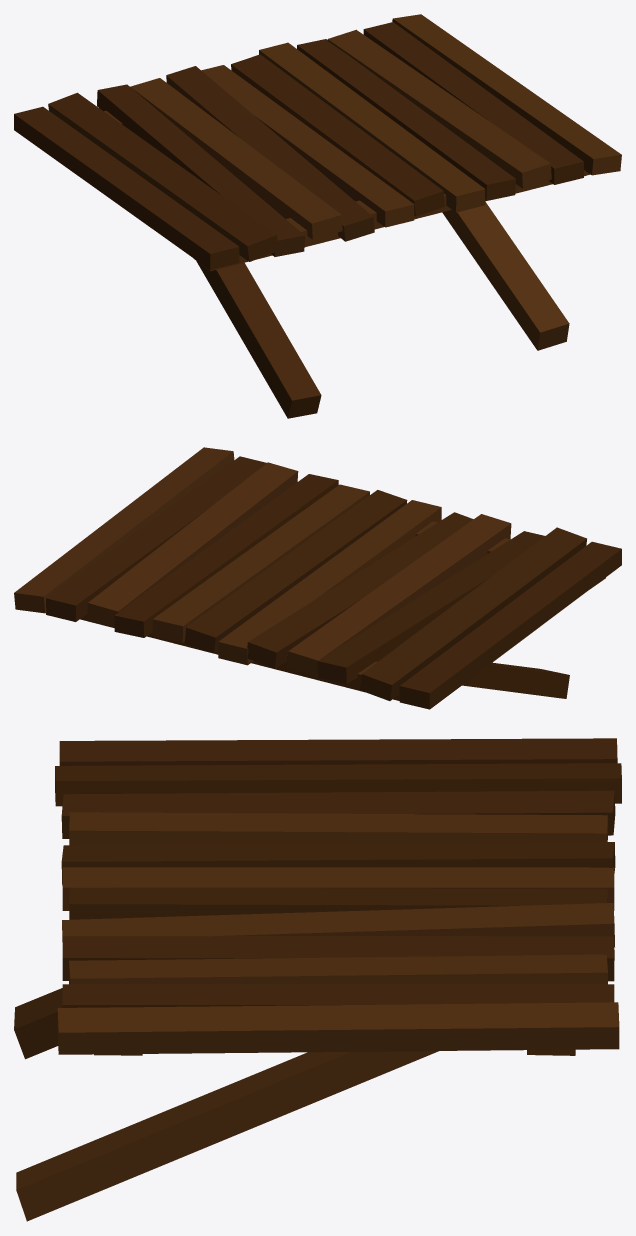
File: obj_ScaffoldingSuspended_1.fbx
3 renders of one model, top to bottom at view 1: azimuth 30°, elevation 25°; view 2: azimuth 150°, elevation 25°; view 3: azimuth 270°, elevation 25°, orthographic. The views are drawn at different scales.
Visible parts, largest first — view 1: geo_ScaffoldingSuspended_1; view 2: geo_ScaffoldingSuspended_1; view 3: geo_ScaffoldingSuspended_1.
Part boxes in pixels (x1=…): geo_ScaffoldingSuspended_1: x1=14, y1=14, x2=621, y2=418; geo_ScaffoldingSuspended_1: x1=14, y1=447, x2=621, y2=709; geo_ScaffoldingSuspended_1: x1=14, y1=738, x2=621, y2=1221.
Bounding box in the file's own units: 77.55 × 67.99 × 31.96.
